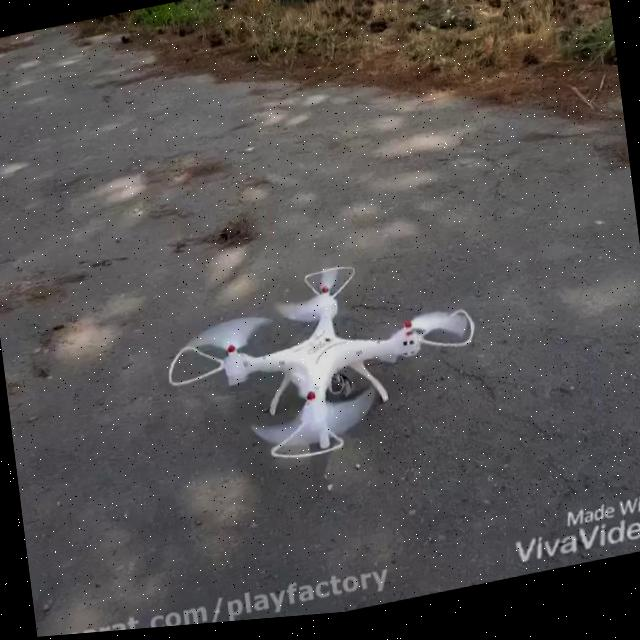drone: (154, 242, 488, 493)
